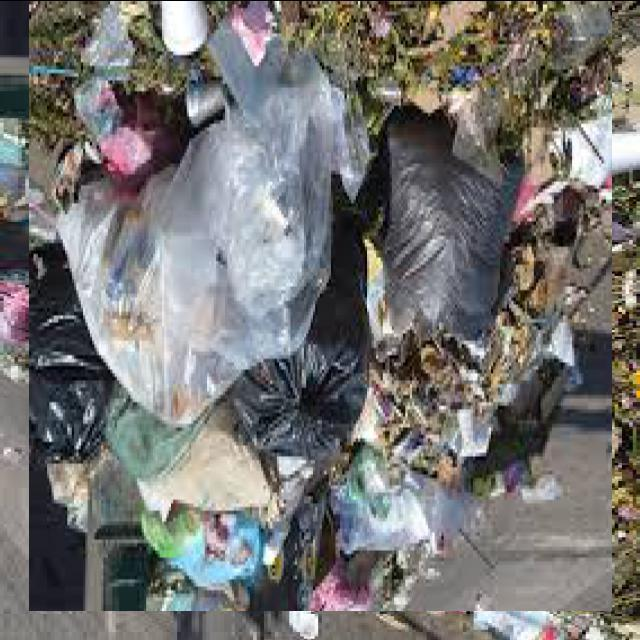Trashbag: (379, 119, 521, 343), (238, 236, 370, 460), (30, 276, 120, 468)
